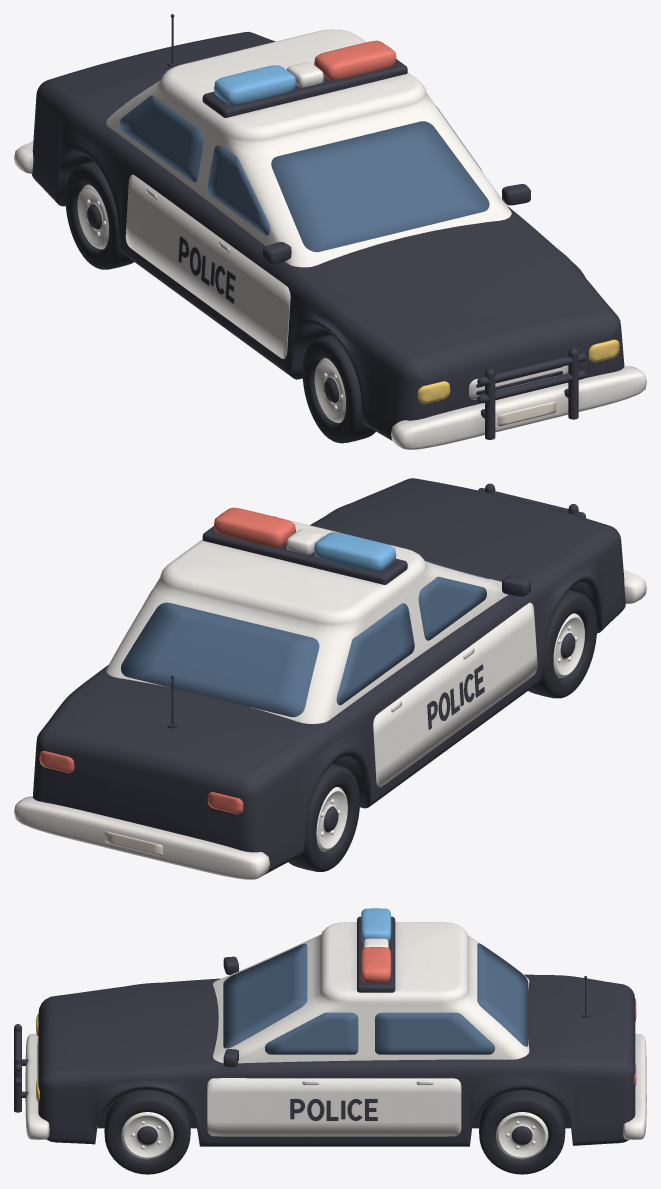
Rendered from police-car.glb.
The picture shows the model from 3 angles, top to bottom: view 1: azimuth 30°, elevation 25°; view 2: azimuth 150°, elevation 25°; view 3: azimuth 270°, elevation 25°; orthographic projection. The views are drawn at different scales.
Visible parts, largest first — view 1: police-car_body, police-car_windows, police-car_wheel_fr, police-car_wheel_rr; view 2: police-car_body, police-car_windows, police-car_wheel_rr, police-car_wheel_fr; view 3: police-car_body, police-car_windows, police-car_wheel_fl, police-car_wheel_rl.
Boxes of the visible parts, x1=… form: police-car_body: x1=14, y1=14, x2=646, y2=449; police-car_windows: x1=119, y1=80, x2=489, y2=252; police-car_wheel_fr: x1=302, y1=334, x2=375, y2=443; police-car_wheel_rr: x1=65, y1=161, x2=133, y2=269; police-car_body: x1=14, y1=478, x2=646, y2=879; police-car_windows: x1=121, y1=560, x2=489, y2=717; police-car_wheel_rr: x1=288, y1=763, x2=359, y2=871; police-car_wheel_fr: x1=528, y1=590, x2=596, y2=698; police-car_body: x1=14, y1=908, x2=646, y2=1146; police-car_windows: x1=223, y1=943, x2=528, y2=1054; police-car_wheel_fl: x1=104, y1=1090, x2=190, y2=1174; police-car_wheel_rl: x1=479, y1=1090, x2=565, y2=1174.
Bounding box in the file's own units: 1.9 × 1.66 × 4.98.
Materials: 14 (1 with a texture image).
